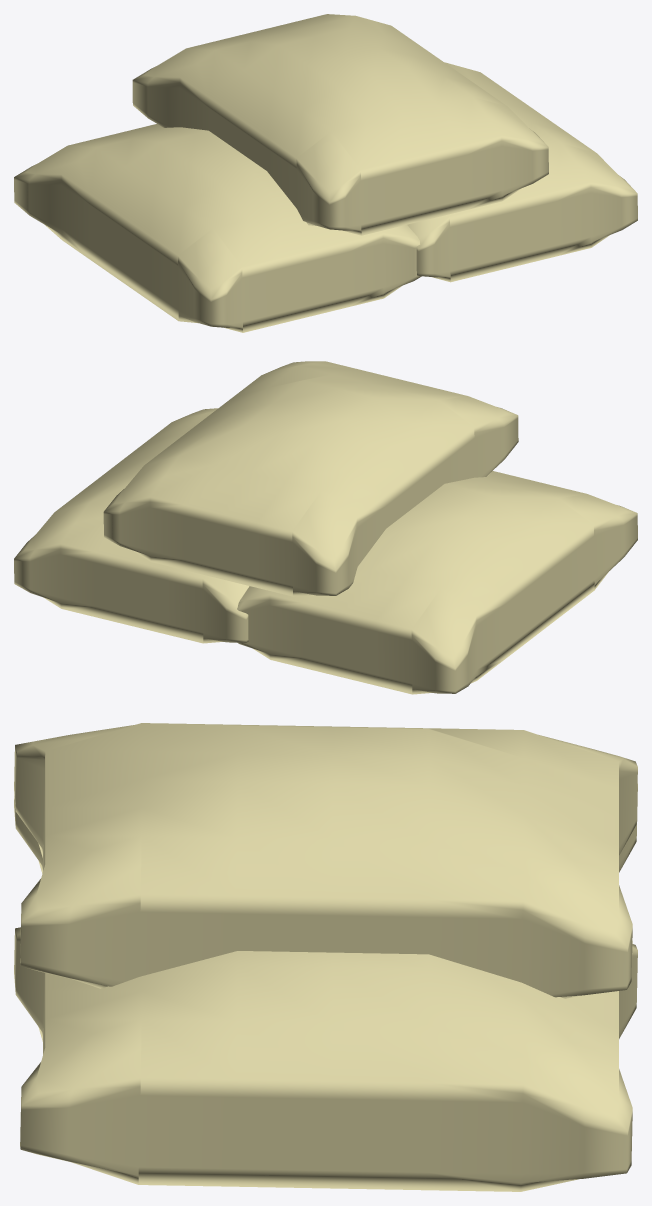
File: Sugar sack.fbx
The picture shows the model from 3 angles, top to bottom: view 1: azimuth 30°, elevation 25°; view 2: azimuth 150°, elevation 25°; view 3: azimuth 270°, elevation 25°; orthographic projection. The views are drawn at different scales.
Visible parts, largest first — view 1: pasted__pasted__pCube1, pCube1, pasted__pCube1; view 2: pasted__pasted__pCube1, pCube1, pasted__pCube1; view 3: pasted__pasted__pCube1, pasted__pCube1, pCube1.
Boxes of the visible parts, x1,y1,x2,y2 form: pasted__pasted__pCube1: [132, 14, 548, 235]; pCube1: [14, 124, 421, 332]; pasted__pCube1: [407, 62, 637, 282]; pasted__pasted__pCube1: [103, 361, 518, 596]; pCube1: [237, 471, 637, 694]; pasted__pCube1: [14, 408, 249, 643]; pasted__pasted__pCube1: [14, 723, 637, 998]; pasted__pCube1: [14, 927, 637, 1191]; pCube1: [14, 784, 637, 944].
Bounding box in the file's own units: 6.66 × 2.49 × 4.97.
